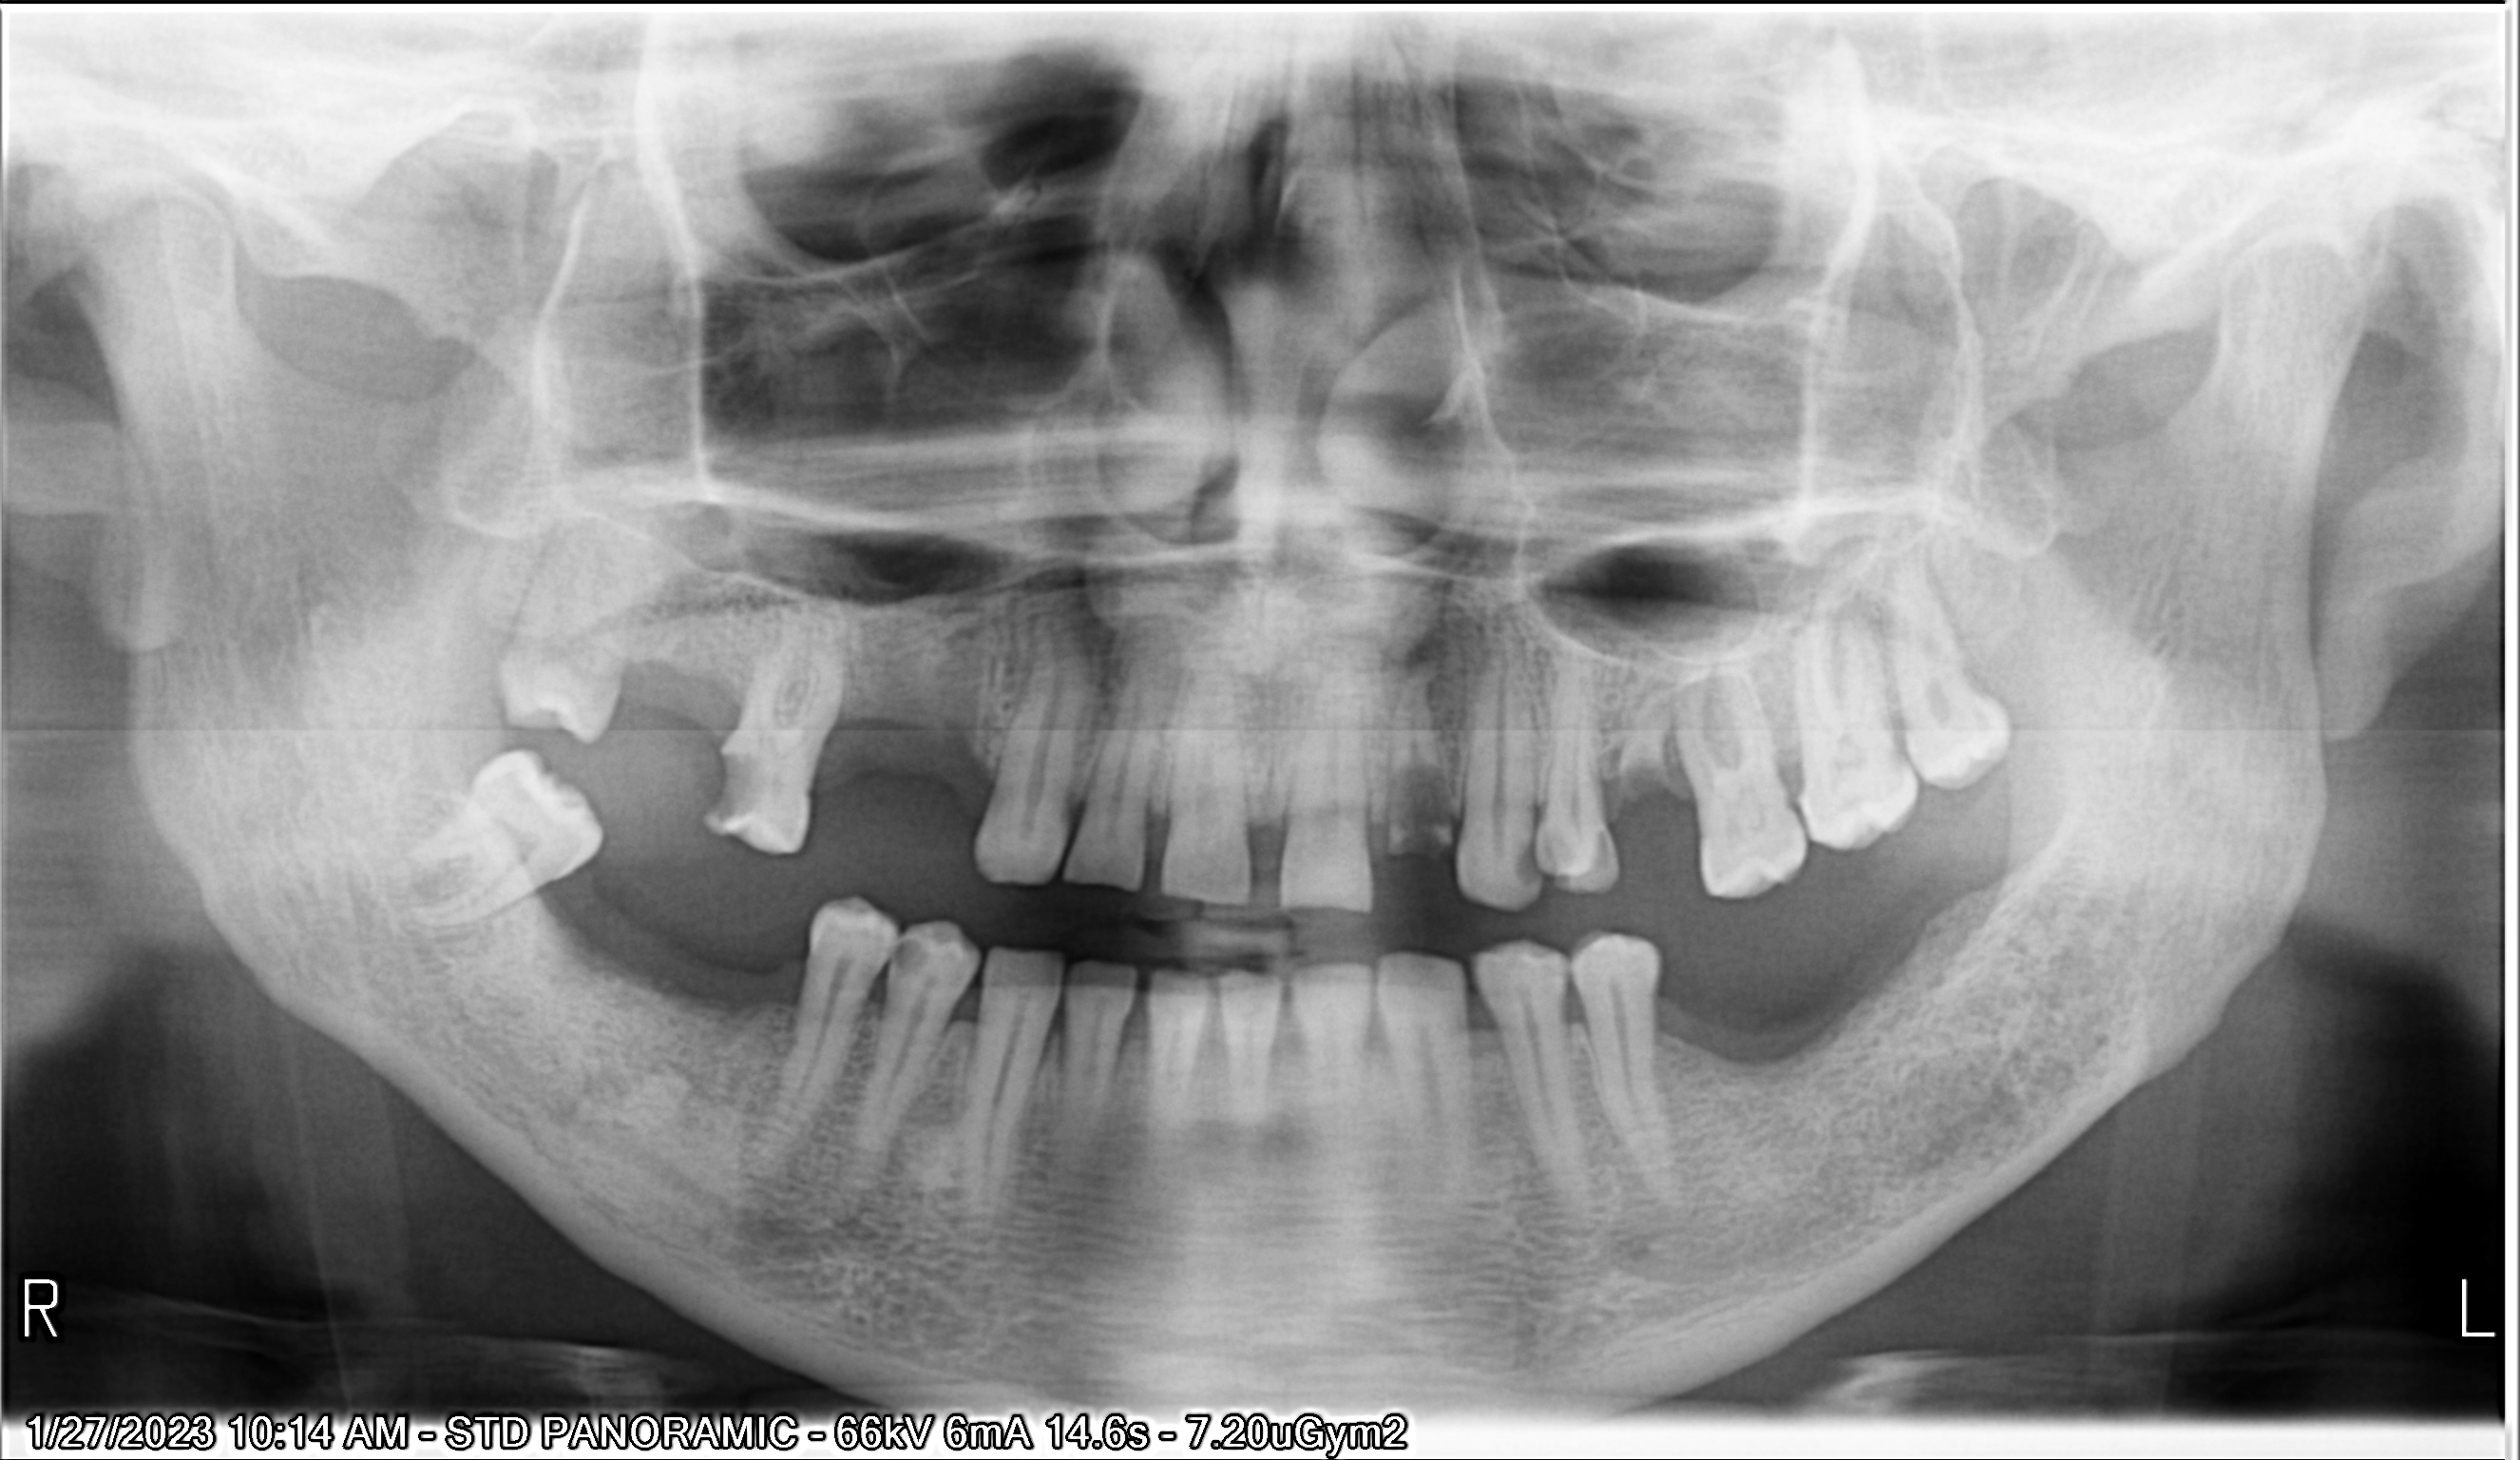CAR: (684, 751, 792, 833), (868, 911, 950, 996), (1381, 765, 1464, 839), (1521, 815, 1589, 874), (1580, 815, 1633, 886), (1497, 822, 1542, 895)
ROT: (1594, 657, 1693, 813)
